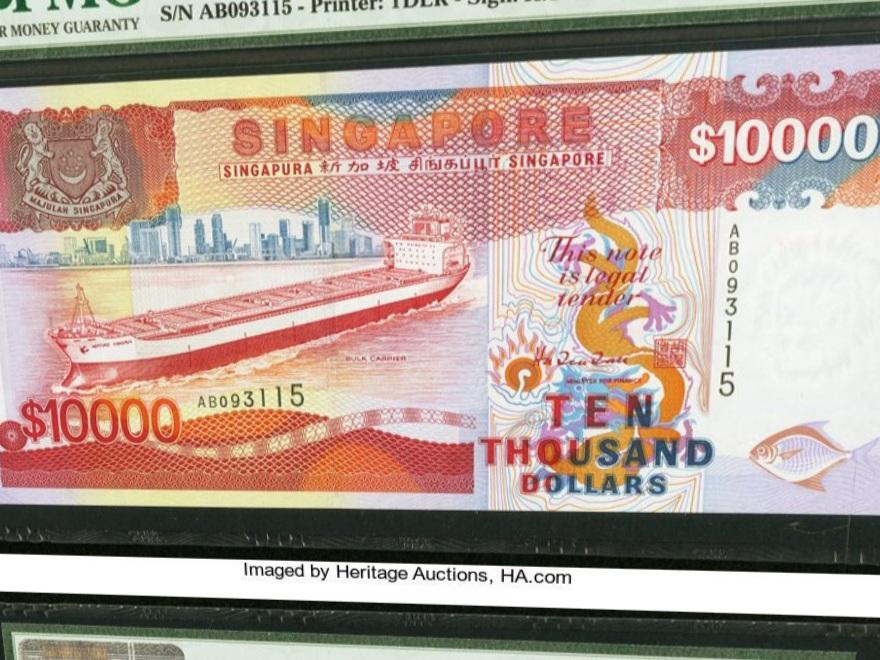10000SingaporeDollar: (0, 70, 880, 511)
